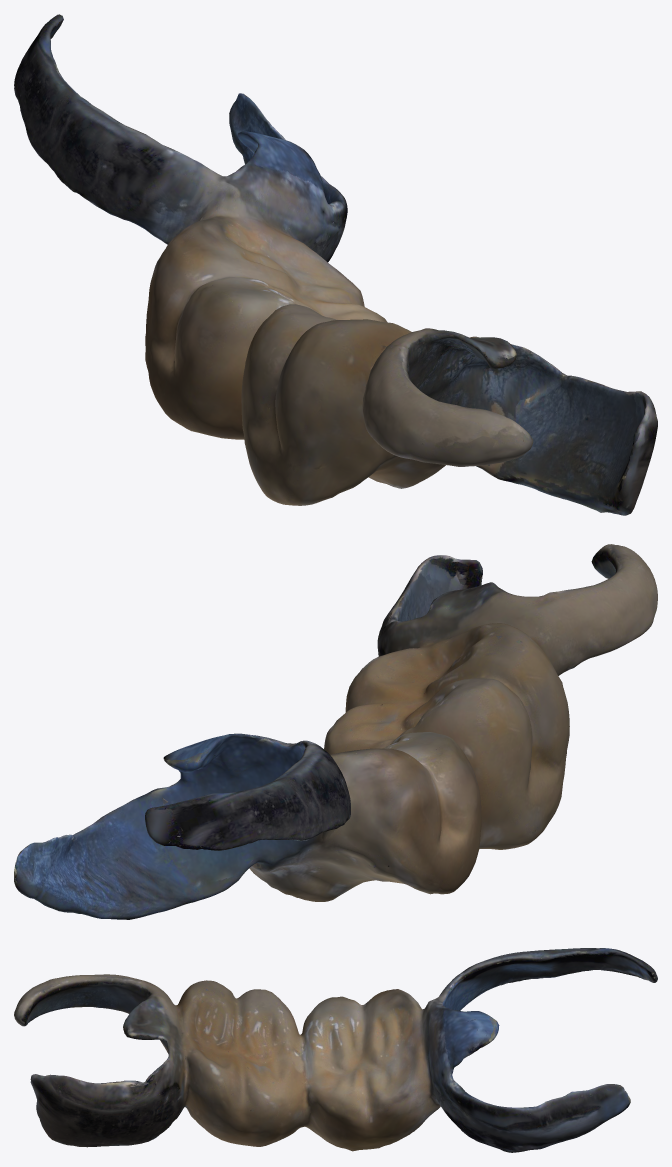
The model's file is maryland pfm textured.glb.
The picture shows the model from 3 angles, top to bottom: view 1: azimuth 30°, elevation 25°; view 2: azimuth 150°, elevation 25°; view 3: azimuth 270°, elevation 25°; orthographic projection. The views are drawn at different scales.
Visible parts, largest first — view 1: maryland pfm LowerJawScan; view 2: maryland pfm LowerJawScan; view 3: maryland pfm LowerJawScan.
Boxes of the visible parts, <box> form: maryland pfm LowerJawScan: <box>14,14,657,515</box>; maryland pfm LowerJawScan: <box>14,544,657,919</box>; maryland pfm LowerJawScan: <box>14,948,657,1152</box>.
Bounding box in the file's own units: 1.11 × 0.9818 × 3.26.
Materials: 1 (1 with a texture image).
